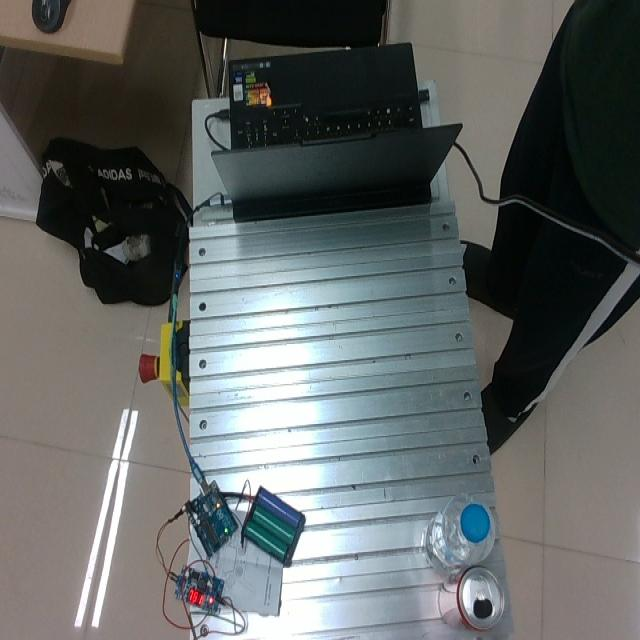coca: (452, 566, 505, 630)
lavie: (424, 492, 496, 573)
